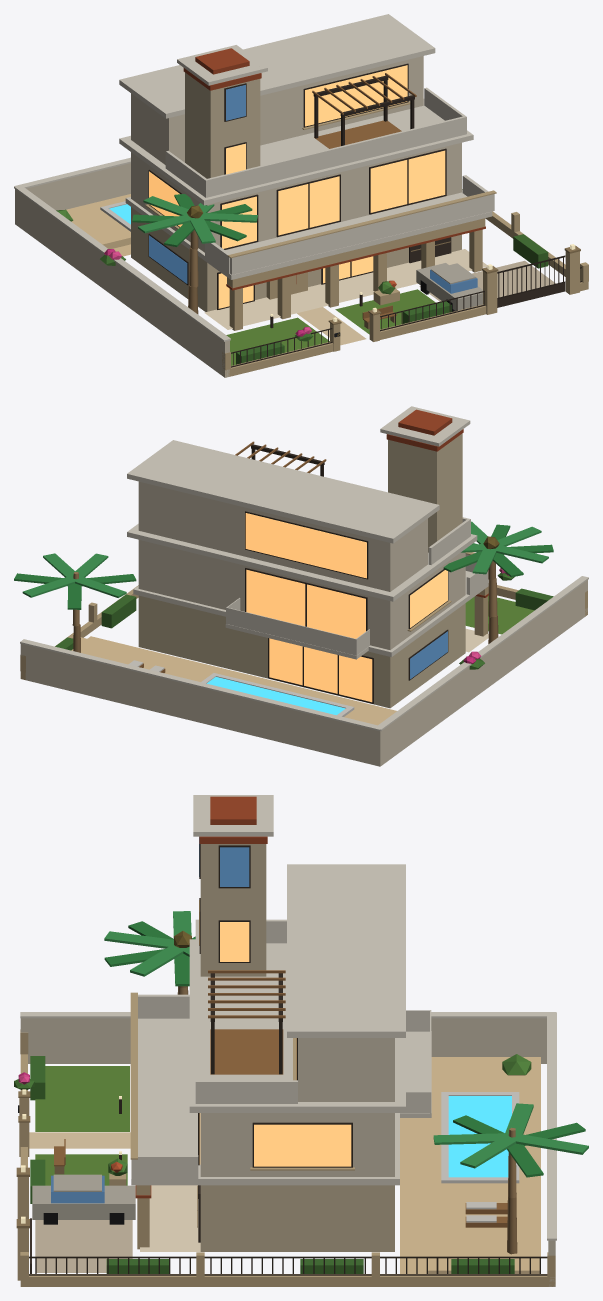
File: villa-c2.glb
3 views of the same model, one above another, from view 1: azimuth 30°, elevation 25°; view 2: azimuth 150°, elevation 25°; view 3: azimuth 270°, elevation 25° (orthographic). The views are drawn at different scales.
Size of the model in its own units: 24.14 by 13.78 by 23.65.
